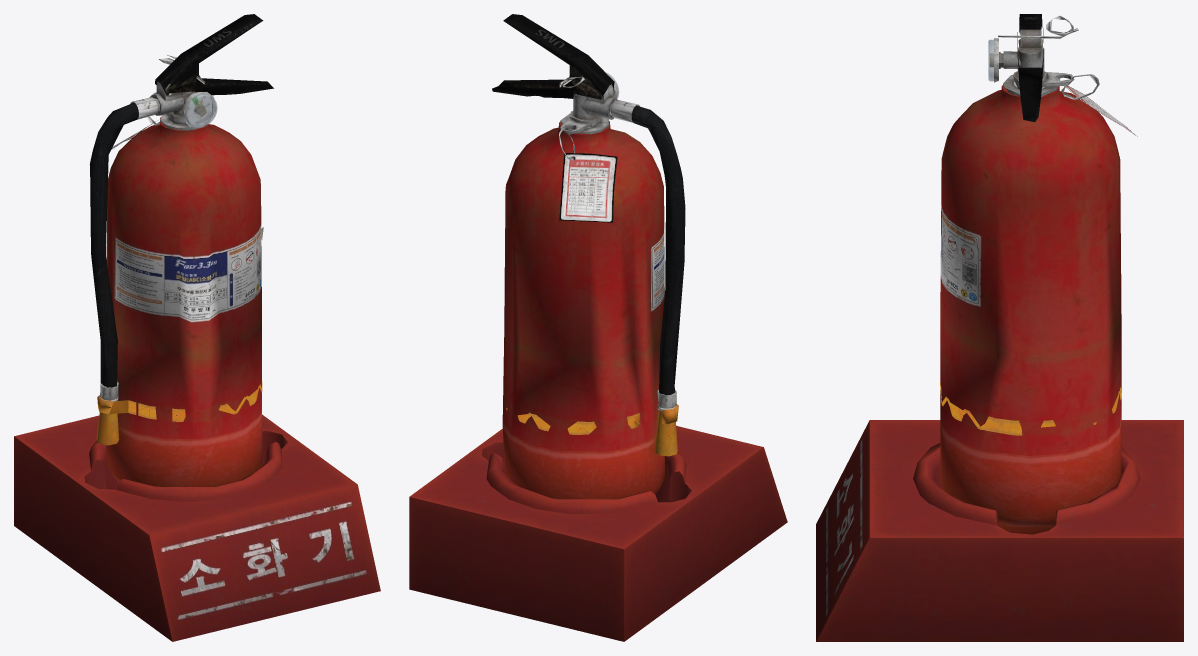
The model's file is korean_fire_extinguisher_01.glb.
3 views of the same model, side by side, from view 1: azimuth 30°, elevation 25°; view 2: azimuth 150°, elevation 25°; view 3: azimuth 270°, elevation 25° (orthographic). The views are drawn at different scales.
Parts seen in each view (by area): view 1: korean_fire_extinguisher_01; view 2: korean_fire_extinguisher_01; view 3: korean_fire_extinguisher_01.
Boxes of the visible parts, bbox=[...] form: korean_fire_extinguisher_01: bbox=[14, 14, 380, 641]; korean_fire_extinguisher_01: bbox=[409, 14, 787, 641]; korean_fire_extinguisher_01: bbox=[816, 14, 1183, 641].
Size of the model in its own units: 0.279 by 0.6581 by 0.3674.
Materials: 3 (3 with a texture image).
